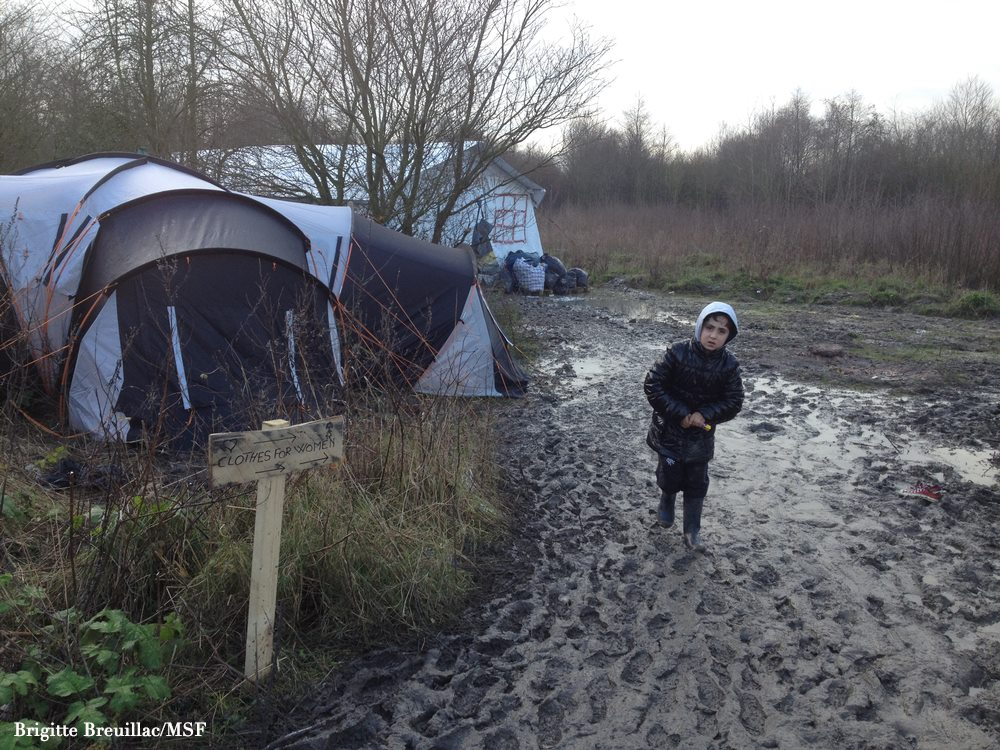person: (645, 298, 749, 542)
tree: (232, 1, 615, 226)
vegetation: (22, 452, 204, 719), (596, 183, 1000, 277), (324, 491, 457, 585)
water: (914, 437, 1000, 480), (811, 419, 847, 461), (577, 351, 603, 375)
